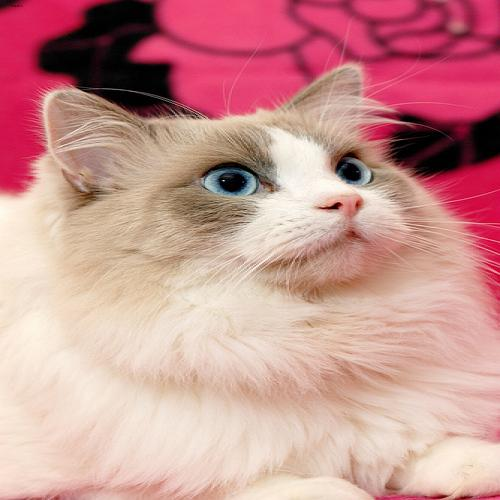ragdoll: (28, 76, 449, 327)
